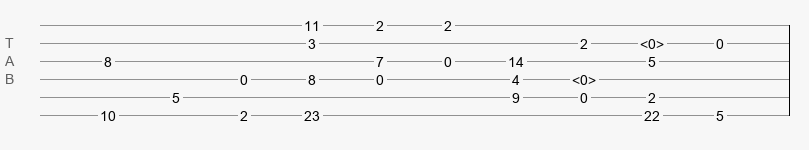0: (240, 72, 248, 82), (376, 72, 384, 82), (444, 54, 452, 64), (580, 90, 588, 100), (716, 36, 724, 46)
10: (100, 108, 116, 118)
11: (304, 18, 320, 28)
14: (508, 54, 524, 64)
2: (240, 108, 248, 118), (376, 18, 384, 28), (444, 18, 452, 28), (580, 36, 588, 46), (648, 90, 656, 100)
22: (644, 108, 660, 118)
23: (304, 108, 320, 118)
3: (308, 36, 316, 46)
4: (512, 72, 520, 82)
5: (172, 90, 180, 100), (648, 54, 656, 64), (716, 108, 724, 118)
7: (376, 54, 384, 64)
8: (104, 54, 112, 64), (308, 72, 316, 82)
9: (512, 90, 520, 100)
harmonic: (572, 72, 596, 82), (640, 36, 664, 46)
